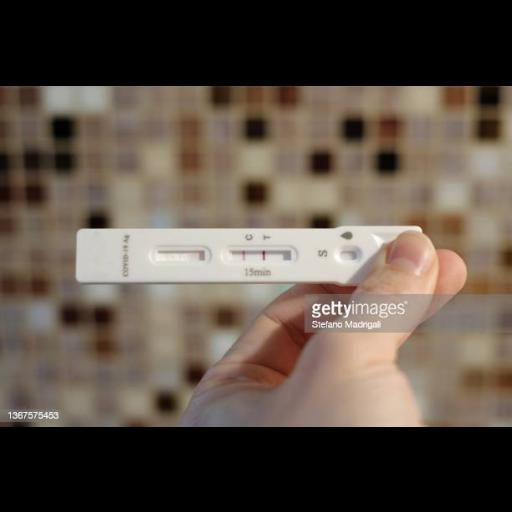Pos: (74, 226, 422, 282)
